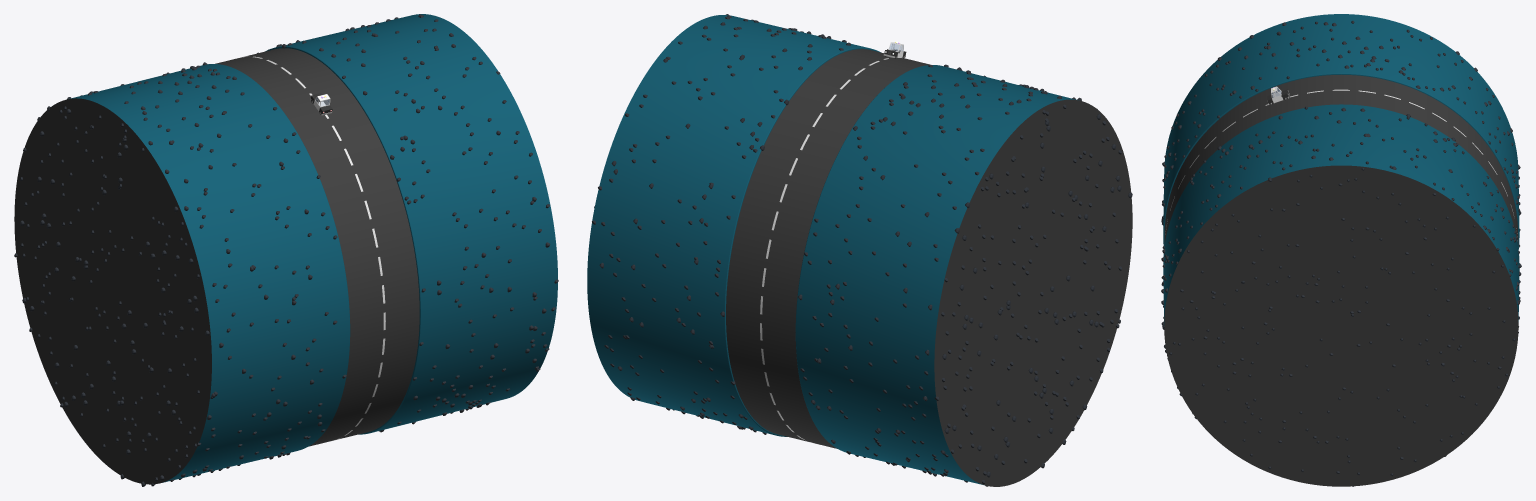
The model's file is road.glb.
The picture shows the model from 3 angles, left to right: view 1: azimuth 30°, elevation 25°; view 2: azimuth 150°, elevation 25°; view 3: azimuth 270°, elevation 25°; orthographic projection. The views are drawn at different scales.
Visible parts, largest first — view 1: Road; view 2: Road; view 3: Road.
Part boxes in pixels (box(x1,y1,x2,y2)): Road: box(14, 14, 558, 486); Road: box(587, 14, 1132, 486); Road: box(1161, 14, 1521, 486).
Bounding box in the file's own units: 16.56 × 16.45 × 16.42.
